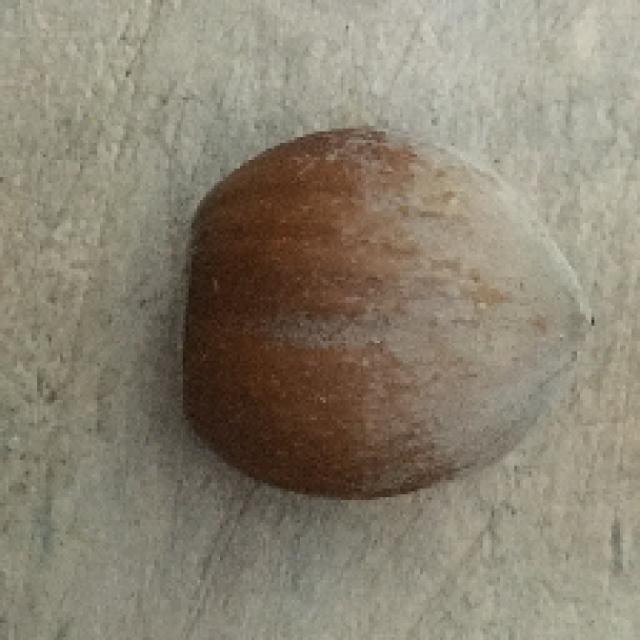qualityHazelnut: (178, 132, 591, 494)
